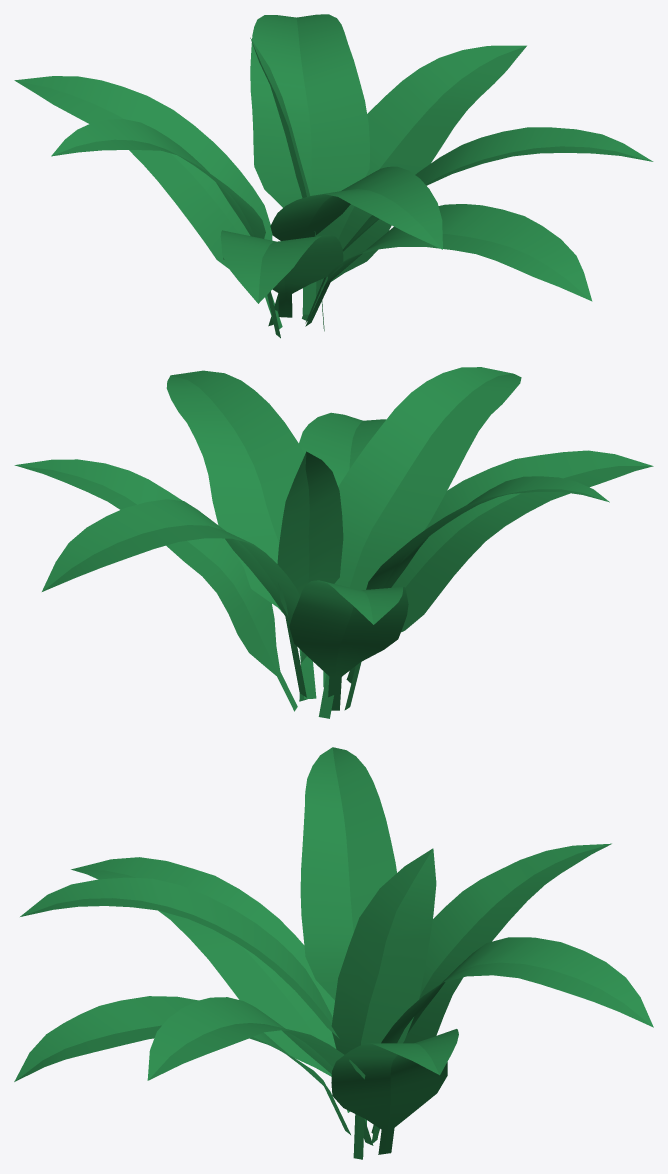
The model's file is plant_bush_E.fbx.
3 renders of one model, top to bottom at view 1: azimuth 30°, elevation 25°; view 2: azimuth 150°, elevation 25°; view 3: azimuth 270°, elevation 25°, orthographic. The views are drawn at different scales.
Parts seen in each view (by area): view 1: plant_bush_E_leaf_D, plant_bush_E_leaf_E, plant_bush_E_leaf_F, plant_bush_E_leaf_G, plant_bush_E_leaf_A, plant_bush_E_leaf_H, plant_bush_E_leaf_B, plant_bush_E_leaf_C, plant_bush_E_leaf_I; view 2: plant_bush_E_leaf_A, plant_bush_E_leaf_B, plant_bush_E_leaf_H, plant_bush_E_leaf_D, plant_bush_E_leaf_F, plant_bush_E_leaf_E, plant_bush_E_leaf_I, plant_bush_E_leaf_C, plant_bush_E_leaf_G; view 3: plant_bush_E_leaf_C, plant_bush_E_leaf_I, plant_bush_E_leaf_H, plant_bush_E_leaf_E, plant_bush_E_leaf_A, plant_bush_E_leaf_D, plant_bush_E_leaf_F, plant_bush_E_leaf_B, plant_bush_E_leaf_G.
Part boxes in pixels (x1,y1,x2,y2): plant_bush_E_leaf_D: (250, 14, 369, 314); plant_bush_E_leaf_E: (14, 76, 282, 329); plant_bush_E_leaf_F: (302, 45, 526, 321); plant_bush_E_leaf_G: (305, 204, 592, 326); plant_bush_E_leaf_A: (268, 166, 442, 326); plant_bush_E_leaf_H: (220, 230, 343, 317); plant_bush_E_leaf_B: (305, 127, 653, 323); plant_bush_E_leaf_C: (51, 119, 280, 338); plant_bush_E_leaf_I: (250, 37, 324, 331); plant_bush_E_leaf_A: (318, 367, 521, 718); plant_bush_E_leaf_B: (166, 370, 316, 699); plant_bush_E_leaf_H: (346, 450, 653, 683); plant_bush_E_leaf_D: (42, 499, 306, 697); plant_bush_E_leaf_F: (14, 459, 297, 711); plant_bush_E_leaf_E: (289, 580, 408, 710); plant_bush_E_leaf_I: (277, 451, 343, 701); plant_bush_E_leaf_C: (344, 476, 609, 710); plant_bush_E_leaf_G: (299, 412, 386, 687); plant_bush_E_leaf_C: (300, 747, 396, 1125); plant_bush_E_leaf_I: (331, 848, 436, 1159); plant_bush_E_leaf_H: (71, 857, 350, 1112); plant_bush_E_leaf_E: (371, 843, 611, 1134); plant_bush_E_leaf_A: (20, 877, 339, 1038); plant_bush_E_leaf_D: (371, 937, 653, 1144); plant_bush_E_leaf_F: (331, 1029, 458, 1154); plant_bush_E_leaf_B: (147, 997, 373, 1145); plant_bush_E_leaf_G: (14, 996, 350, 1134).
Bounding box in the file's own units: 55.65 × 27.95 × 55.67.
